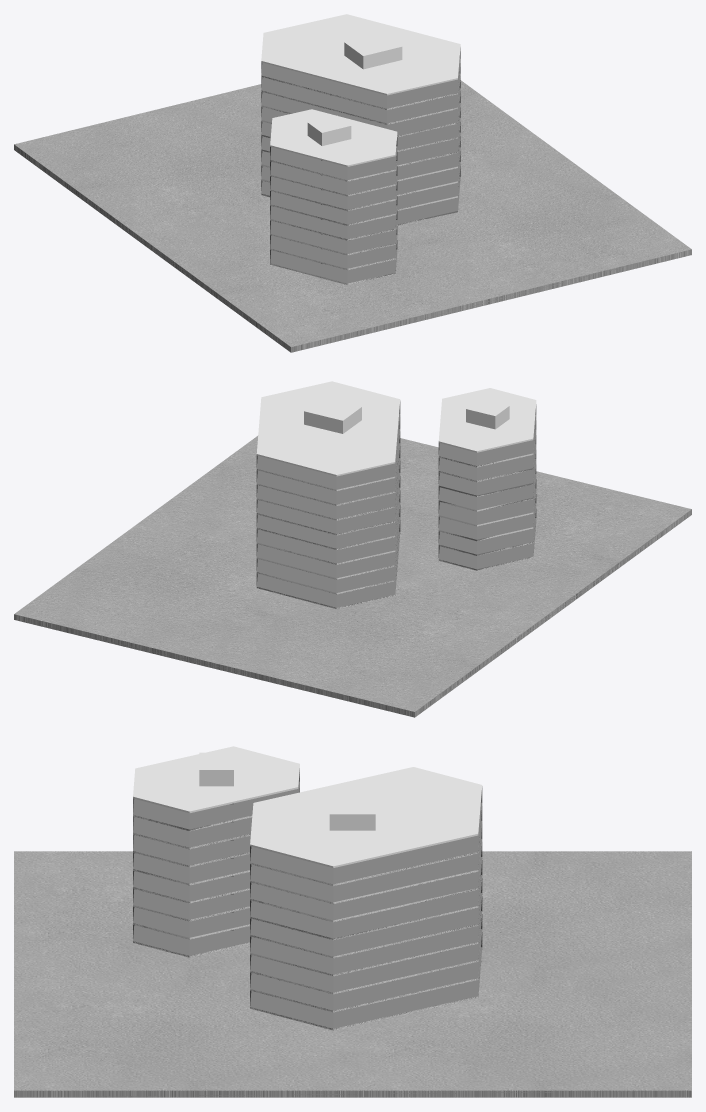
File: Buildings.fbx
The picture shows the model from 3 angles, top to bottom: view 1: azimuth 30°, elevation 25°; view 2: azimuth 150°, elevation 25°; view 3: azimuth 270°, elevation 25°; orthographic projection. The views are drawn at different scales.
Visible parts, largest first — view 1: Site, Slab, Slab_2, Glazing_2, Glazing, ROOF_3, ROOF_2, ROOF; view 2: Site, Slab_2, Glazing, Slab, Glazing_2, ROOF_3, ROOF_2, ROOF; view 3: Site, Slab_2, Glazing, Slab, Glazing_2, ROOF_3, ROOF_2, ROOF.
Part boxes in pixels (bbox=[...]): Site: bbox=[14, 80, 691, 352]; Slab: bbox=[270, 109, 397, 284]; Slab_2: bbox=[261, 59, 460, 225]; Glazing_2: bbox=[270, 137, 397, 283]; Glazing: bbox=[261, 49, 460, 225]; ROOF_3: bbox=[261, 14, 460, 95]; ROOF_2: bbox=[344, 33, 402, 69]; ROOF: bbox=[307, 115, 351, 145]; Site: bbox=[14, 435, 691, 717]; Slab_2: bbox=[256, 414, 400, 609]; Glazing: bbox=[256, 402, 400, 608]; Slab: bbox=[438, 388, 536, 570]; Glazing_2: bbox=[438, 406, 536, 570]; ROOF_3: bbox=[256, 381, 400, 476]; ROOF_2: bbox=[304, 397, 361, 433]; ROOF: bbox=[466, 398, 509, 429]; Site: bbox=[14, 851, 691, 1097]; Slab_2: bbox=[250, 803, 482, 1030]; Glazing: bbox=[250, 788, 482, 1029]; Slab: bbox=[133, 746, 299, 957]; Glazing_2: bbox=[133, 770, 299, 956]; ROOF_3: bbox=[250, 767, 482, 867]; ROOF_2: bbox=[329, 791, 375, 830]; ROOF: bbox=[199, 752, 233, 786].
Bounding box in the file's own units: 85.31 × 102 × 31.15.
3 materials, 1 textured.
